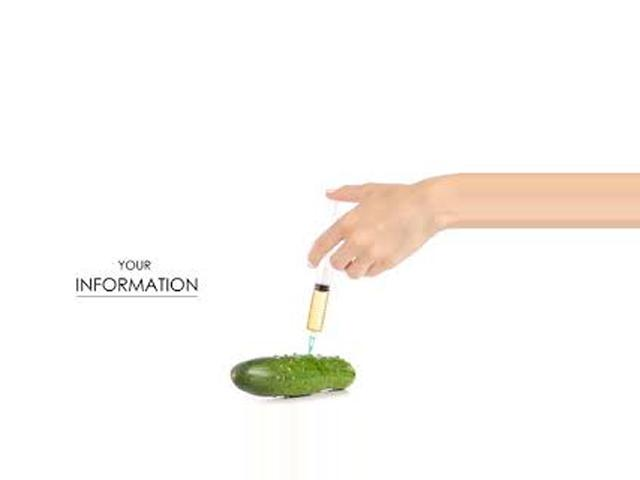cucumber: (231, 354, 357, 395)
